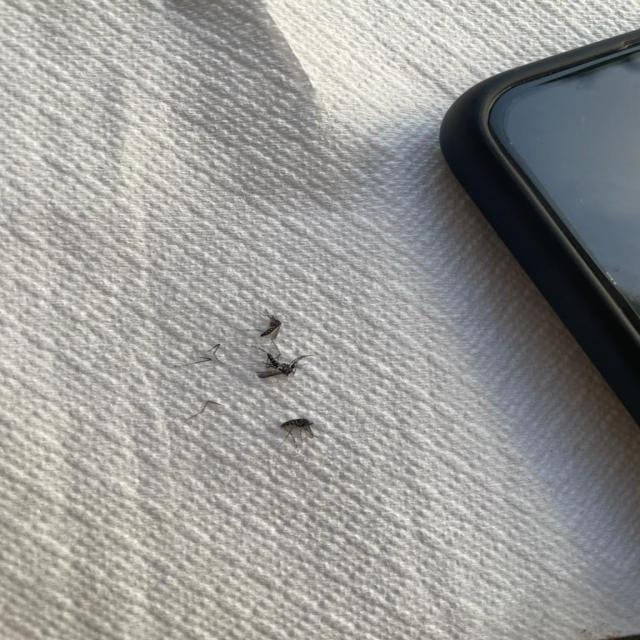albopictus: (171, 306, 320, 385)
